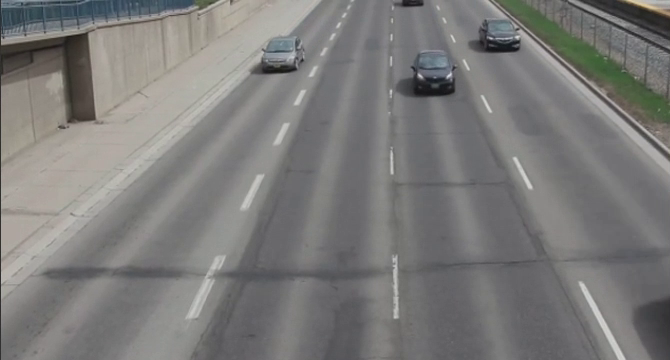car: (409, 51, 462, 99), (477, 15, 527, 54), (260, 36, 308, 72)
